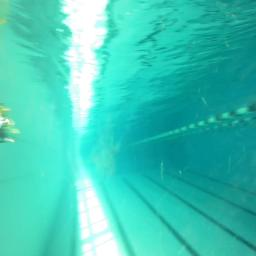Full: (0, 102, 10, 143)
